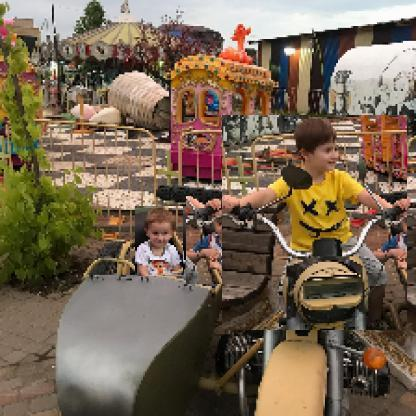child: (223, 116, 409, 332), (187, 197, 257, 286), (136, 207, 185, 278)
